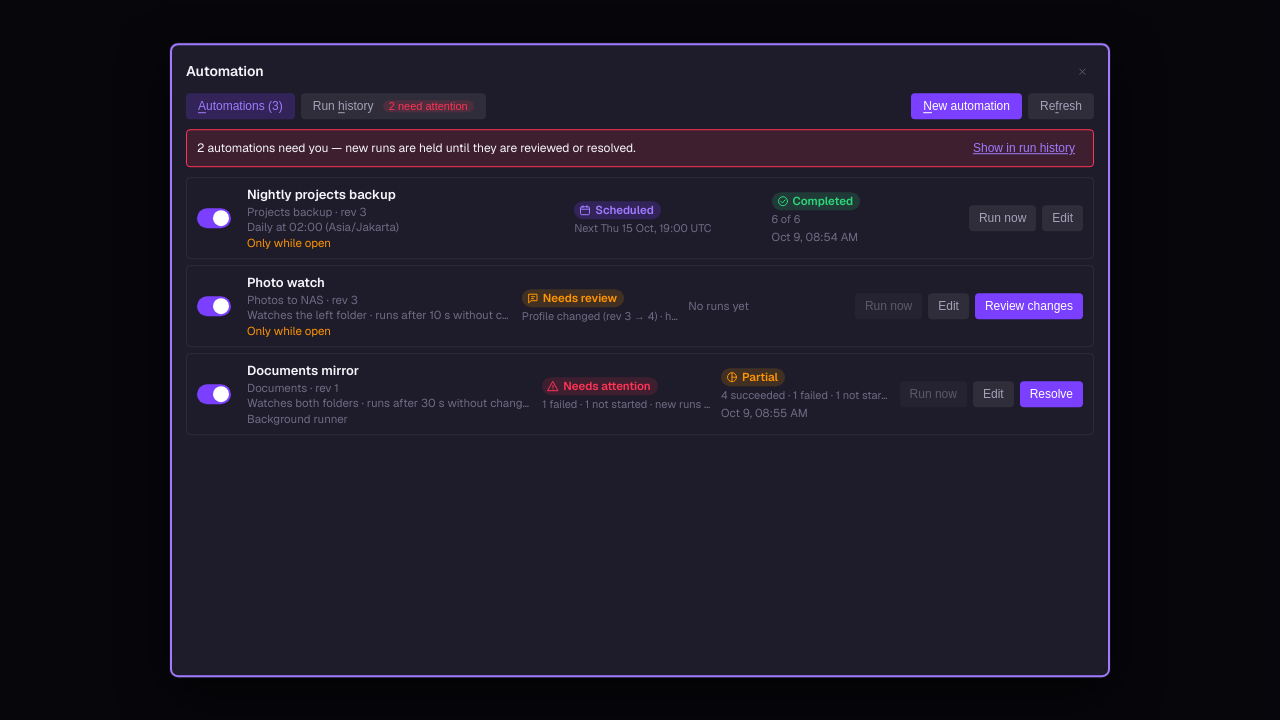
Test: AutomationPage list (MH-1..MH-4) › the banner link opens the filtered run history
Click the button "Show in run history". click: [1024, 148]
box: [965,137,1083,159]
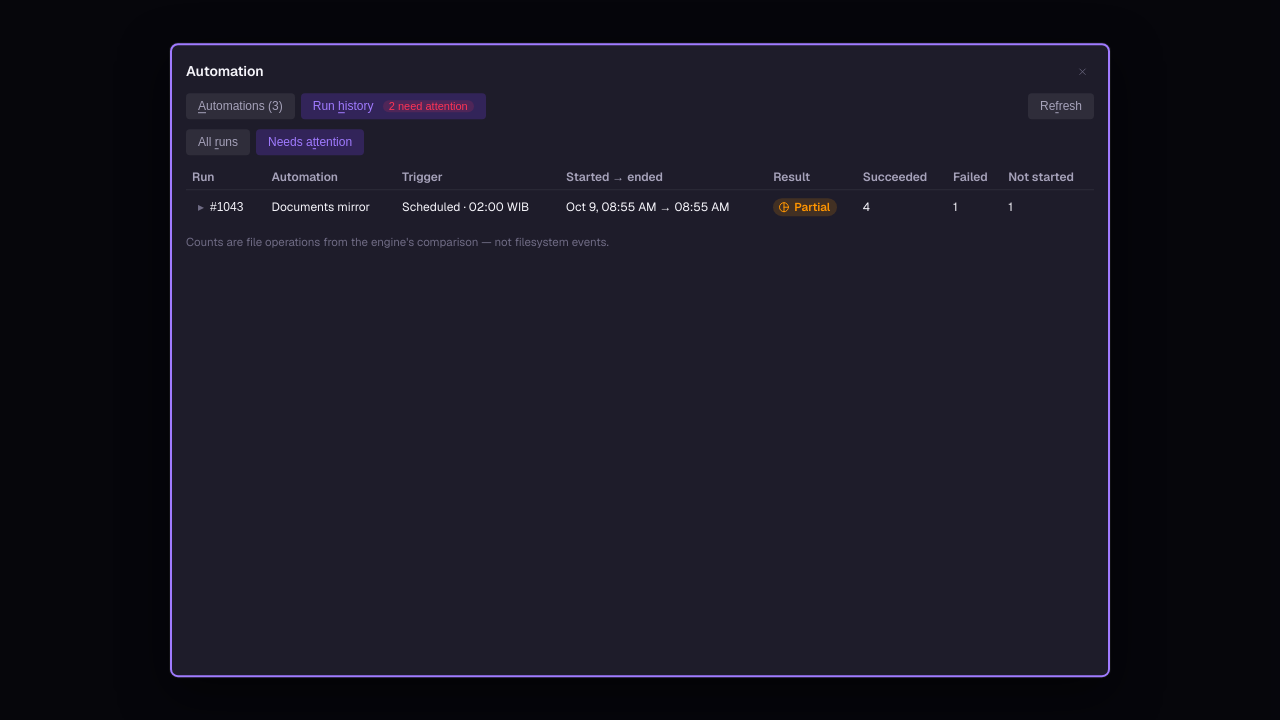
Now the button "▸ #1043" is shown, box [192,196,247,218]
